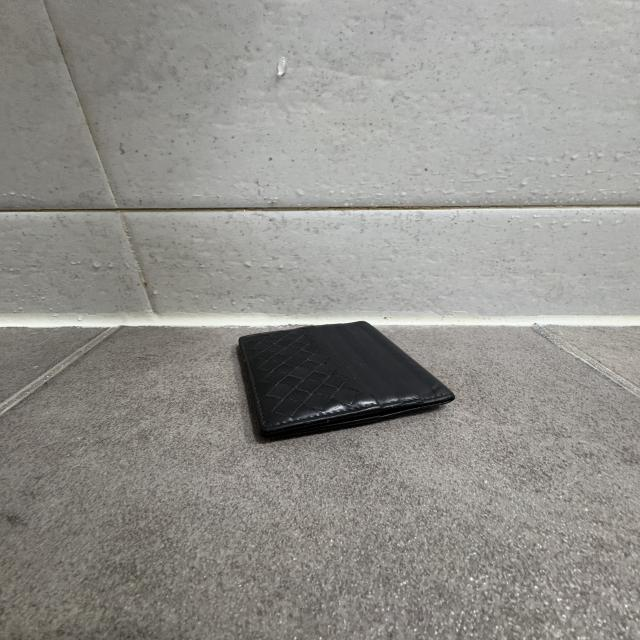wallet: (235, 320, 457, 442)
